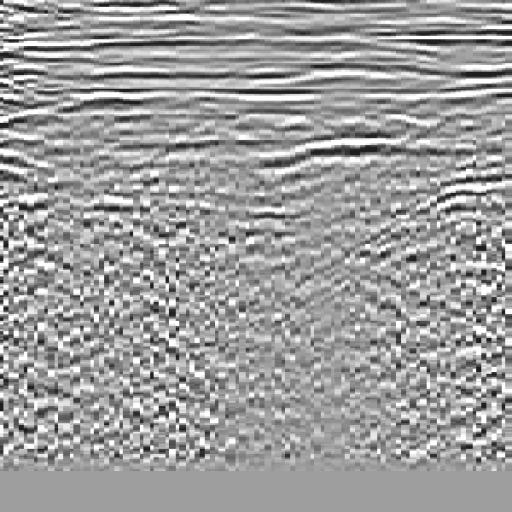metalic: (11, 41, 207, 284)
